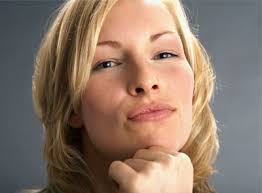white_female: (74, 14, 207, 167)
